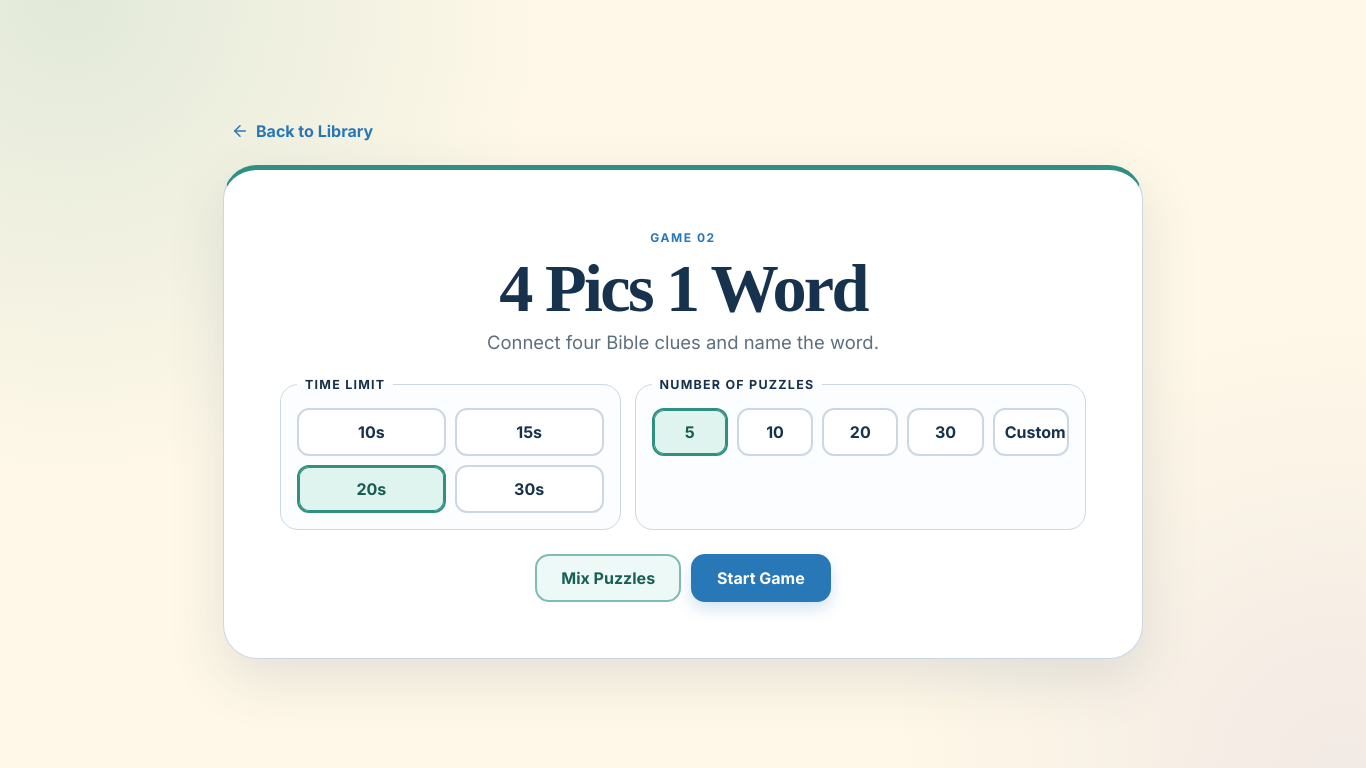
Test case: 4 Pics 1 Word › Reveal Answer completes every slot and cannot be undone by a stale wrong timeout
Click the button "Start Game".
click(761, 578)  # box x1=691 y1=554 x2=831 y2=602
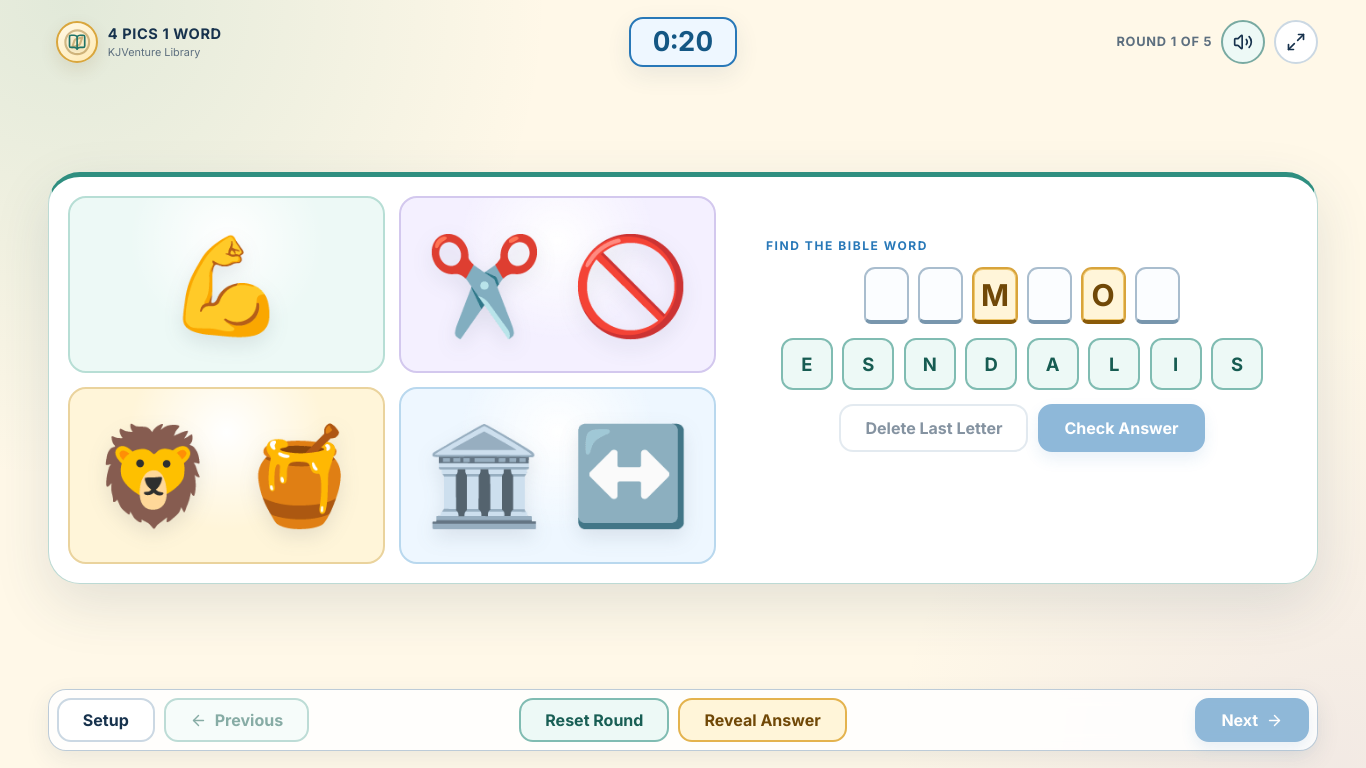
Click the button "E".
click(807, 364)  # box x1=781 y1=338 x2=833 y2=390
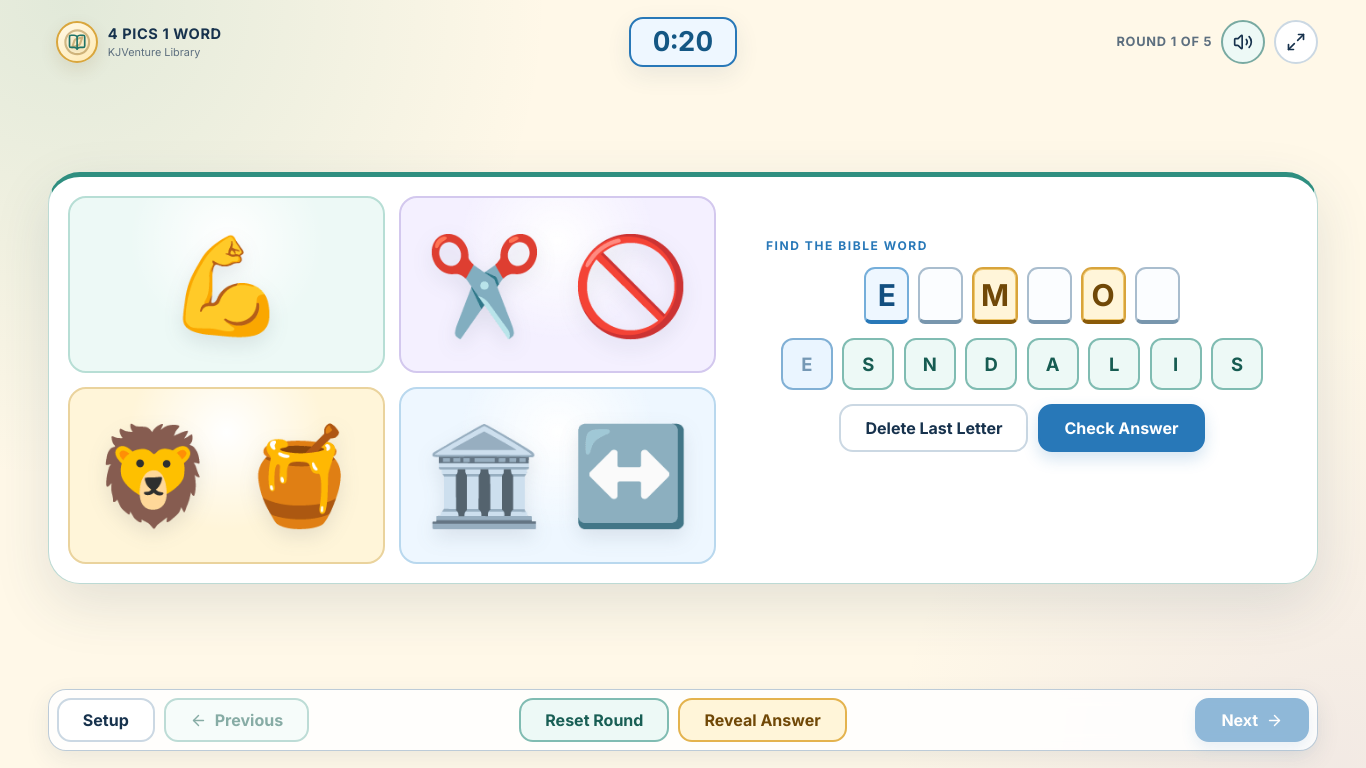
Click the button "Check Answer".
click(1121, 428)  # box x1=1038 y1=404 x2=1204 y2=452
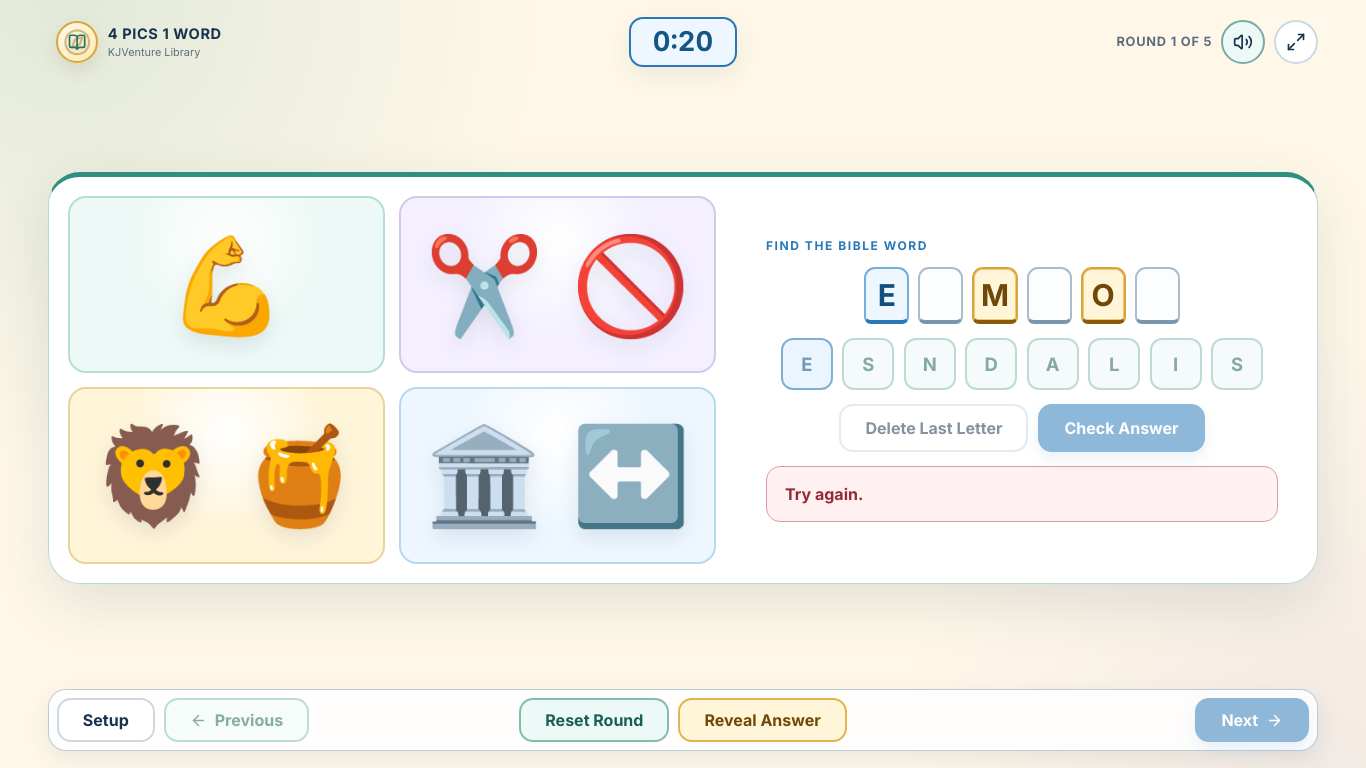
Click the button "Reveal Answer".
click(763, 720)  # box x1=678 y1=698 x2=847 y2=742
Wait 1500 ms
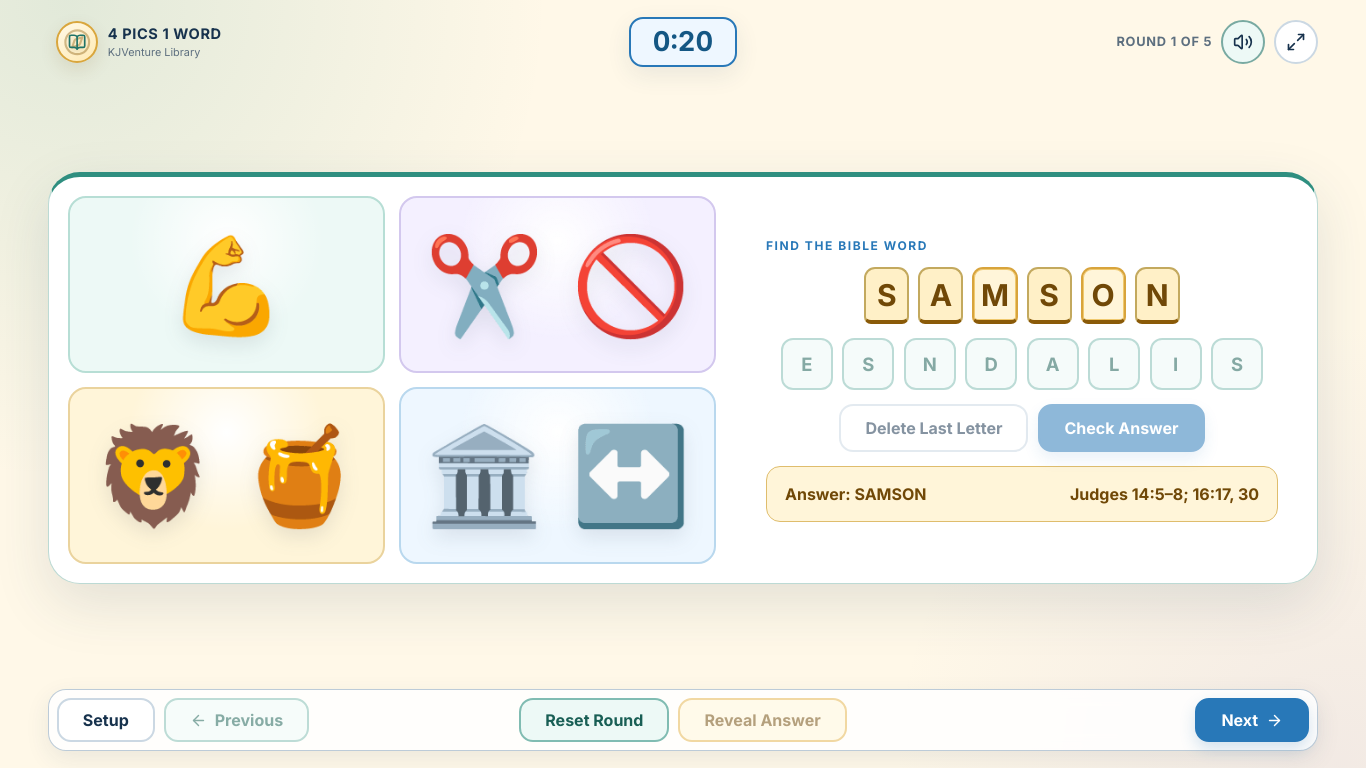
Check: the text "Answer: SAMSON" is shown, box x1=785 y1=484 x2=926 y2=504
